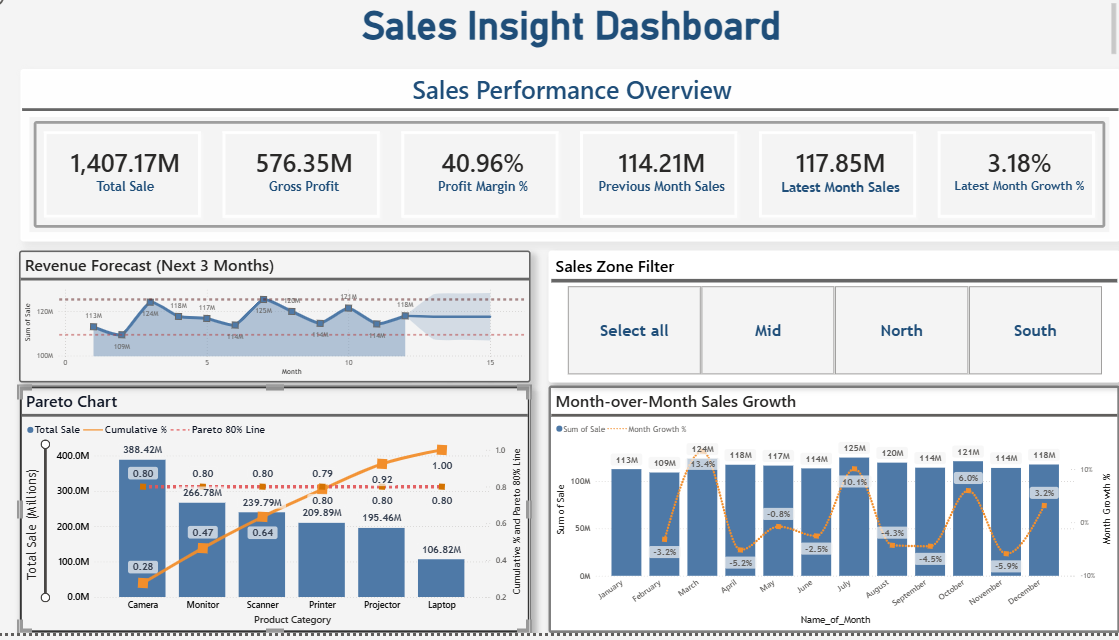

What the dashboard file says about the page in this screenshot:
{"tool":"powerbi","page":{"name":"Dashboard-","canvas":[1920,1080],"ordinal":1},"visuals":[{"type":"textbox","box":[60.7,24.3,1833.8,97.2],"z":0},{"type":"lineClusteredColumnComboChart","title":"Pareto Chart","fields":{"Category":["dProducts.Item"],"Y":["fSales.Total Sale"],"Y2":["fSales.Cumulative %","fSales.Pareto 80% Line"]},"box":[60,667.5,852.5,412.5],"z":1000},{"type":"lineStackedColumnComboChart","title":"Month-over-Month Sales Growth","fields":{"Category":["DateTable.Name_of_Month"],"Y":["Sum(fSales.Sale)"],"Y2":["fSales.Month Growth %"]},"box":[942.5,667.5,952.5,412.5],"z":2000},{"type":"actionButton","box":[0,0,100,40],"z":3000},{"type":"cardVisual","title":"Sales Performance Overview","fields":{"Data":["fSales.Total Sale","fSales.Gross Profit","fSales.Profit Margin %","DateTable.Previous of Last Month Sales","DateTable.Latest Month Sales","DateTable.Last Month Growth Rate"]},"box":[62.5,140,1832.5,287.5],"z":4000},{"type":"lineChart","title":"Revenue Forecast (Next 3 Months)","fields":{"Y":["Sum(fSales.Sale)"],"Category":["DateTable.Month"]},"box":[60,442.5,852.5,220],"z":5000},{"type":"slicer","title":"Sales Zone Filter","fields":{"Values":["dShops.Zone"]},"box":[942.5,442.5,952.5,220],"z":6000}]}

Visuals, with their boxes in screenshot pixels (x1, y1, x2, y2), scaled from the page's 1920x1080 canvas onto the 1119x640 screenshot:
textbox: left=35, top=14, right=1104, bottom=72
"Pareto Chart" lineClusteredColumnComboChart: left=35, top=396, right=532, bottom=639
"Month-over-Month Sales Growth" lineStackedColumnComboChart: left=549, top=396, right=1104, bottom=639
actionButton: left=0, top=0, right=58, bottom=24
"Sales Performance Overview" cardVisual: left=36, top=83, right=1104, bottom=253
"Revenue Forecast (Next 3 Months)" lineChart: left=35, top=262, right=532, bottom=393
"Sales Zone Filter" slicer: left=549, top=262, right=1104, bottom=393
